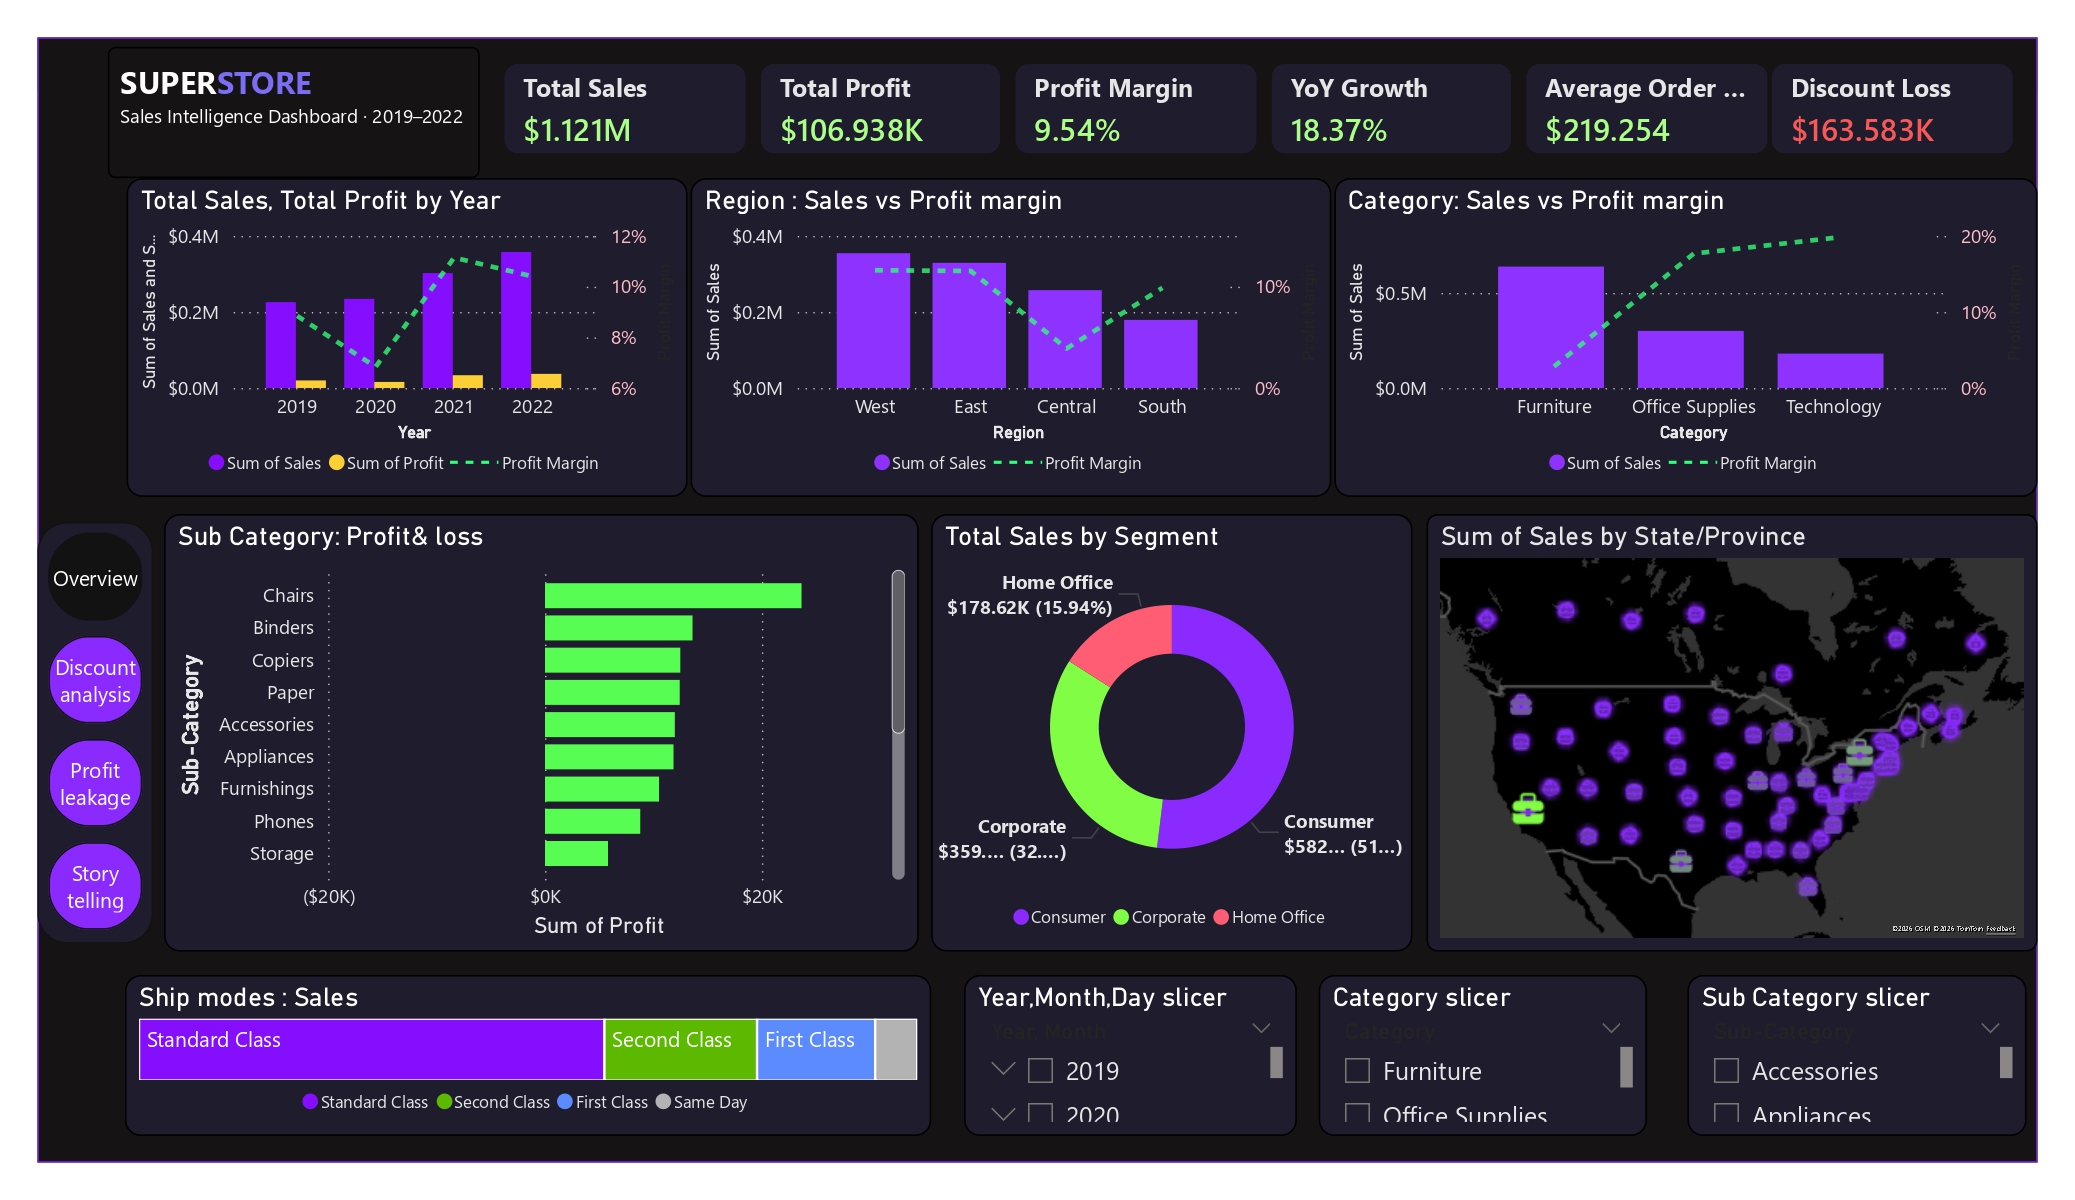

What the dashboard file says about the page in this screenshot:
{"tool":"powerbi","page":{"name":"Overview","canvas":[1280,720],"ordinal":0},"visuals":[{"type":"cardVisual","fields":{"Data":["Orders.Total Sales"]},"box":[282.4,0.2,187.7,90.4],"z":0},{"type":"lineClusteredColumnComboChart","title":"Total Sales, Total Profit  by Year","fields":{"Y":["Sum(Orders.Sales)","Sum(Orders.Profit)"],"Category":["Orders.Order Date.Variation.Date Hierarchy.Year","Orders.Order Date.Variation.Date Hierarchy.Month"],"Y2":["Orders.Profit Margin"]},"box":[56.7,90.3,358.9,204.1],"z":1000},{"type":"cardVisual","fields":{"Data":["Orders.Total Profit"]},"box":[445.8,0.2,187.7,90.4],"z":2000},{"type":"cardVisual","fields":{"Data":["Orders.Profit Margin"]},"box":[609.2,0.2,187.7,90.4],"z":3000},{"type":"cardVisual","fields":{"Data":["Orders.YoY Growth"]},"box":[772.6,0.2,187.7,90.4],"z":4000},{"type":"cardVisual","fields":{"Data":["Orders.Discount Loss"]},"box":[1092.9,0.4,187.7,90.4],"z":5000},{"type":"cardVisual","fields":{"Data":["Orders.Average Order Value"]},"box":[936.1,0.2,187.7,90.4],"z":6000},{"type":"lineClusteredColumnComboChart","title":"Region : Sales vs Profit margin","fields":{"Y":["Sum(Orders.Sales)"],"Category":["Orders.Region"],"Y2":["Orders.Profit Margin"]},"box":[418,90,410,204],"z":7000},{"type":"lineClusteredColumnComboChart","title":"Category: Sales vs Profit margin","fields":{"Y":["Sum(Orders.Sales)"],"Category":["Orders.Category"],"Y2":["Orders.Profit Margin"]},"box":[830.4,90,450,204],"z":8000},{"type":"barChart","title":"Sub Category: Profit& loss","fields":{"Category":["Orders.Sub-Category"],"Y":["Sum(Orders.Profit)"]},"box":[81.5,305.4,482.7,279.4],"z":9000},{"type":"donutChart","title":"Total Sales by Segment","fields":{"Category":["Orders.Segment"],"Y":["Sum(Orders.Sales)"]},"box":[572.4,305.1,308,280],"z":10000},{"type":"treemap","title":"Ship modes : Sales","fields":{"Group":["Orders.Ship Mode"],"Values":["Sum(Orders.Sales)"]},"box":[56.4,600.1,516,103],"z":11000},{"type":"azureMap","fields":{"Category":["Orders.State/Province"],"Size":["Sum(Orders.Sales)"]},"box":[889.4,305.1,391,280],"z":12000},{"type":"textbox","box":[44.7,5.6,238.2,84.5],"z":13000},{"type":"slicer","title":"Year,Month,Day slicer","fields":{"Values":["Orders.Order Date.Variation.Date Hierarchy.Year","Orders.Order Date.Variation.Date Hierarchy.Month"]},"box":[592.9,600.1,212.7,102.7],"z":14000},{"type":"slicer","title":"Category slicer","fields":{"Values":["Orders.Category"]},"box":[820.1,600.1,210,102.7],"z":15000},{"type":"slicer","title":"Sub Category slicer","fields":{"Values":["Orders.Sub-Category"]},"box":[1055.6,600.1,217.3,102.7],"z":16000},{"type":"pageNavigator","box":[0,309.9,74.3,270.4],"z":17000}]}

Visuals, with their boxes on the page's 1280x720 design canvas (x1, y1, x2, y2). These are canvas units, not pixel positions in the 2075x1200 screenshot, which may show the page scaled, cropped or inside an application window:
cardVisual - Orders.Total Sales: region(282, 0, 470, 91)
"Total Sales, Total Profit  by Year" lineClusteredColumnComboChart: region(57, 90, 416, 294)
cardVisual - Orders.Total Profit: region(446, 0, 634, 91)
cardVisual - Orders.Profit Margin: region(609, 0, 797, 91)
cardVisual - Orders.YoY Growth: region(773, 0, 960, 91)
cardVisual - Orders.Discount Loss: region(1093, 0, 1281, 91)
cardVisual - Orders.Average Order Value: region(936, 0, 1124, 91)
"Region : Sales vs Profit margin" lineClusteredColumnComboChart: region(418, 90, 828, 294)
"Category: Sales vs Profit margin" lineClusteredColumnComboChart: region(830, 90, 1280, 294)
"Sub Category: Profit& loss" barChart: region(82, 305, 564, 585)
"Total Sales by Segment" donutChart: region(572, 305, 880, 585)
"Ship modes : Sales" treemap: region(56, 600, 572, 703)
azureMap - Orders.State/Province x Sum(Orders.Sales): region(889, 305, 1280, 585)
textbox: region(45, 6, 283, 90)
"Year,Month,Day slicer" slicer: region(593, 600, 806, 703)
"Category slicer" slicer: region(820, 600, 1030, 703)
"Sub Category slicer" slicer: region(1056, 600, 1273, 703)
pageNavigator: region(0, 310, 74, 580)
